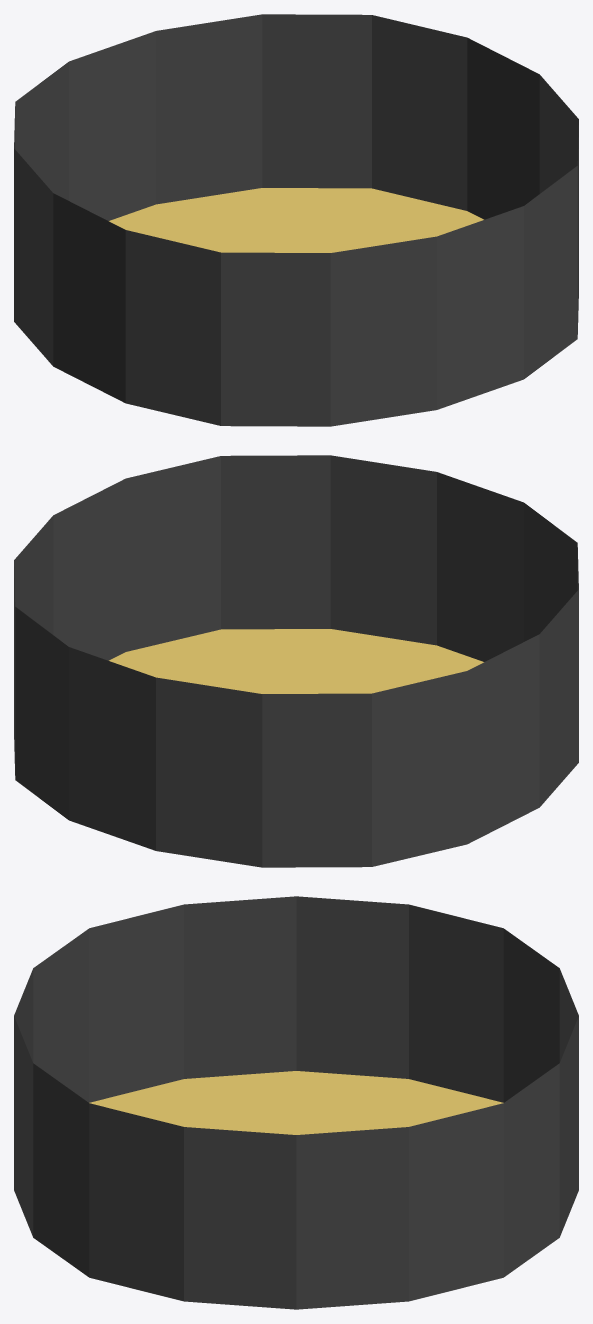
Rendered from FYPMap.glb.
3 views of the same model, one above another, from view 1: azimuth 30°, elevation 25°; view 2: azimuth 150°, elevation 25°; view 3: azimuth 270°, elevation 25° (orthographic).
Visible parts, largest first — view 1: Walls, Floor; view 2: Walls, Floor; view 3: Walls, Floor.
Part boxes in pixels (x1=…): Walls: x1=14, y1=14, x2=578, y2=426; Floor: x1=109, y1=188, x2=483, y2=252; Walls: x1=14, y1=455, x2=578, y2=867; Floor: x1=109, y1=629, x2=483, y2=693; Walls: x1=14, y1=896, x2=578, y2=1309; Floor: x1=89, y1=1071, x2=503, y2=1134.
Size of what is drawn, in the model's own units: 36.67 by 12.5 by 36.67.
